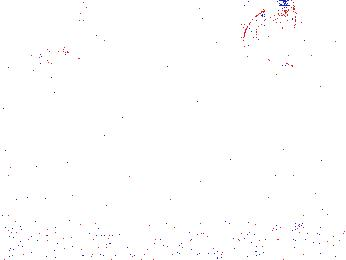moon jellyfish: (241, 59, 320, 126), (23, 50, 101, 110), (182, 4, 262, 53), (241, 5, 298, 61), (76, 4, 157, 41), (75, 1, 164, 27)
